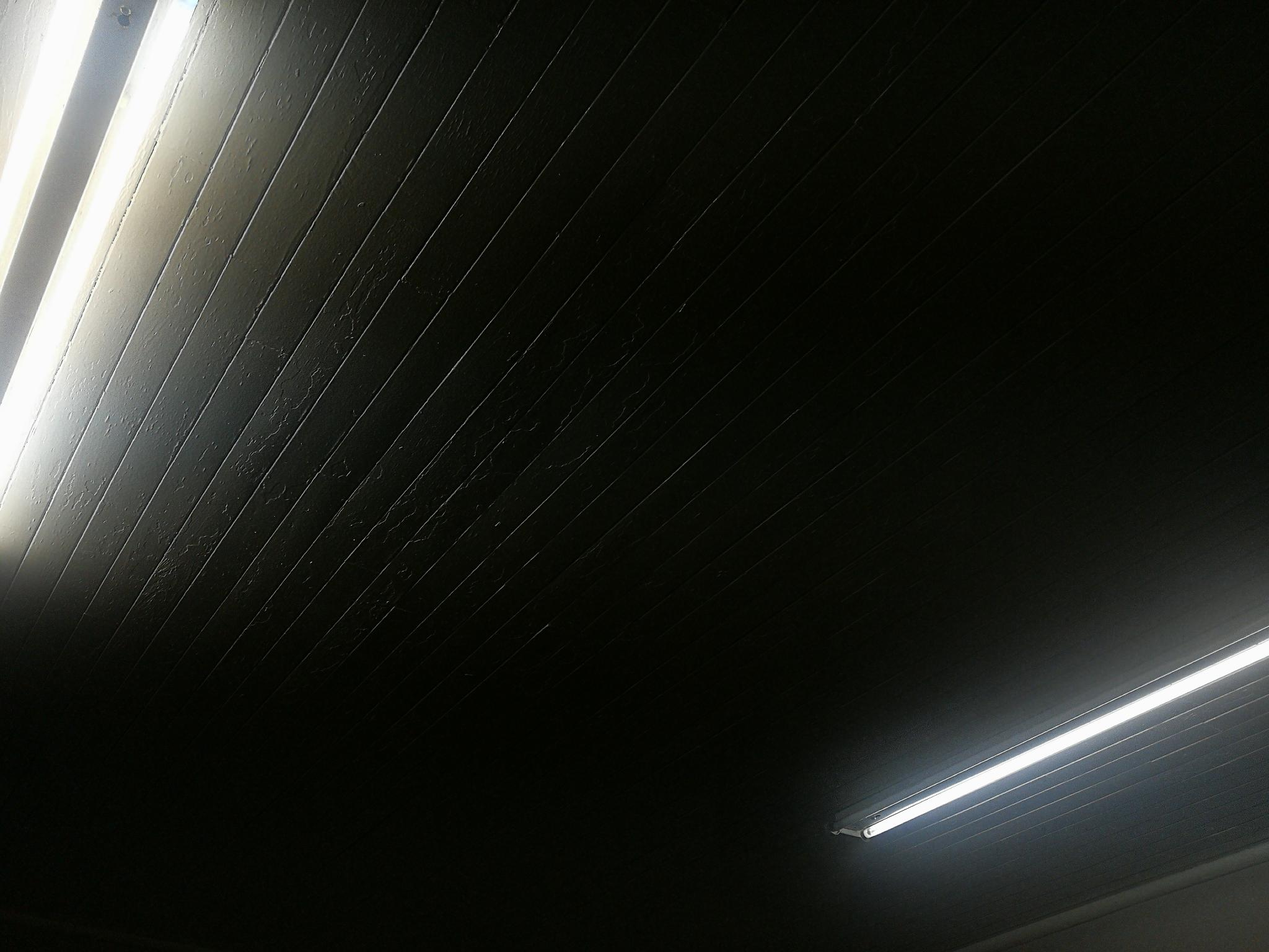light: (0, 0, 200, 508), (829, 627, 1267, 840)
